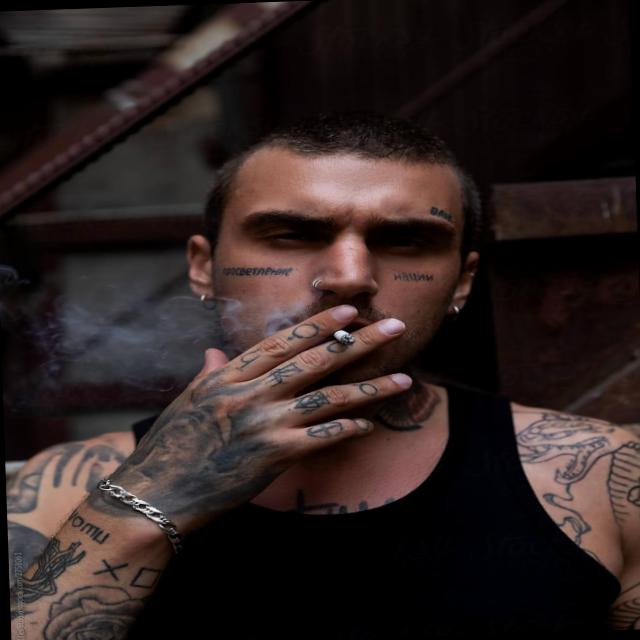cigarette: (301, 311, 390, 368)
